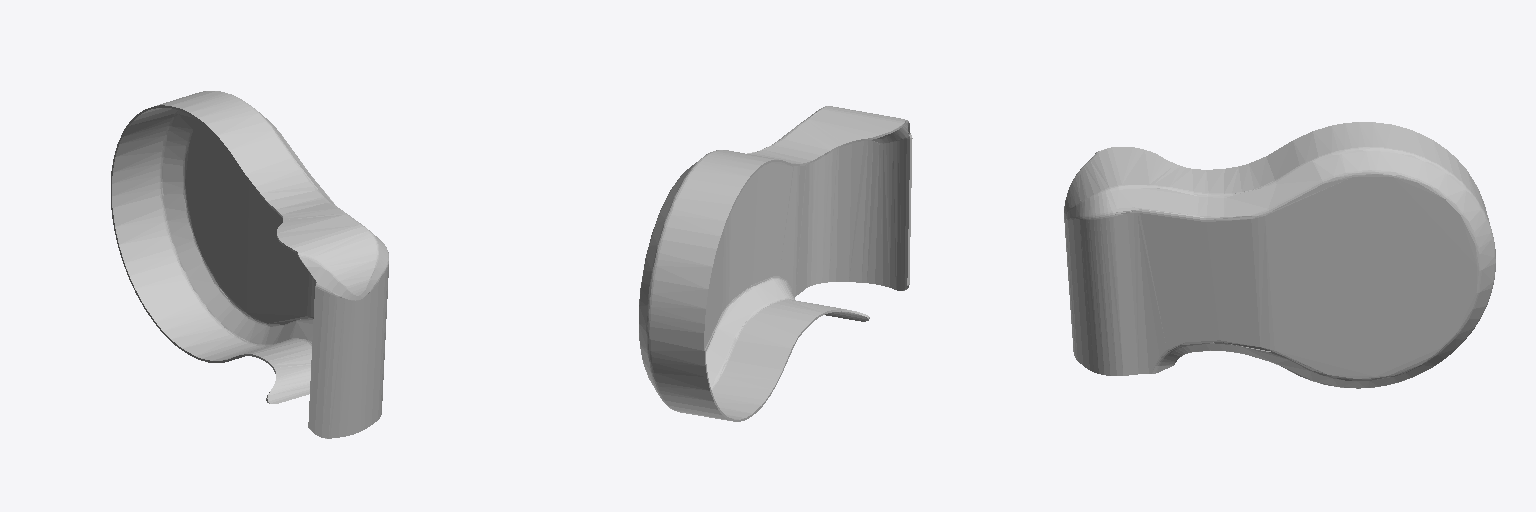
File: anymal_shank_l_0.obj
3 views of the same model, side by side, from view 1: azimuth 30°, elevation 25°; view 2: azimuth 150°, elevation 25°; view 3: azimuth 270°, elevation 25° (orthographic).
Parts seen in each view (by area): view 1: anymal_shank_l_0; view 2: anymal_shank_l_0; view 3: anymal_shank_l_0.
Part boxes in pixels (x1,y1,x2,y2): anymal_shank_l_0: (111,91,388,438); anymal_shank_l_0: (639,106,912,421); anymal_shank_l_0: (1064,122,1495,388).
Size of the model in its own units: 0.0523 by 0.1152 by 0.1866.